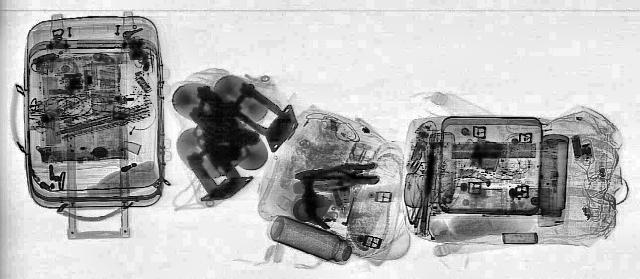Pliers: (293, 164, 379, 184)
